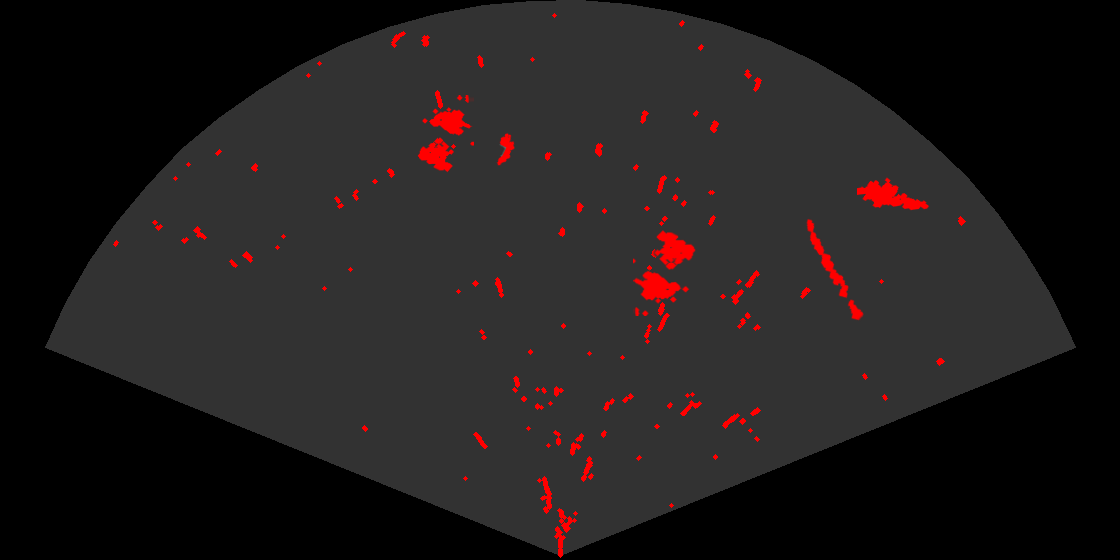AUV: (495, 131, 516, 167)
cage: (633, 229, 697, 316), (416, 95, 474, 174)
chain: (805, 217, 865, 322)
frogman: (857, 176, 931, 212)
